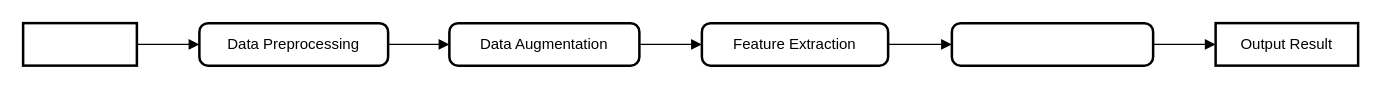
Image size: 1380x88. Some labels were removed from this diagram. The shapes that lost their labels are listed below. From the top down, each one's centre as x and y in pixels, then its label:
At [79,43]: "Input Data".
At [1052,43]: "3D Object Detection".
